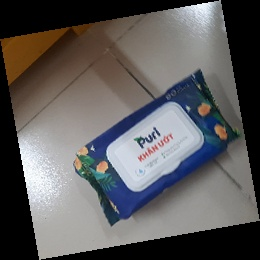Puri Xanh: (71, 68, 244, 228)
